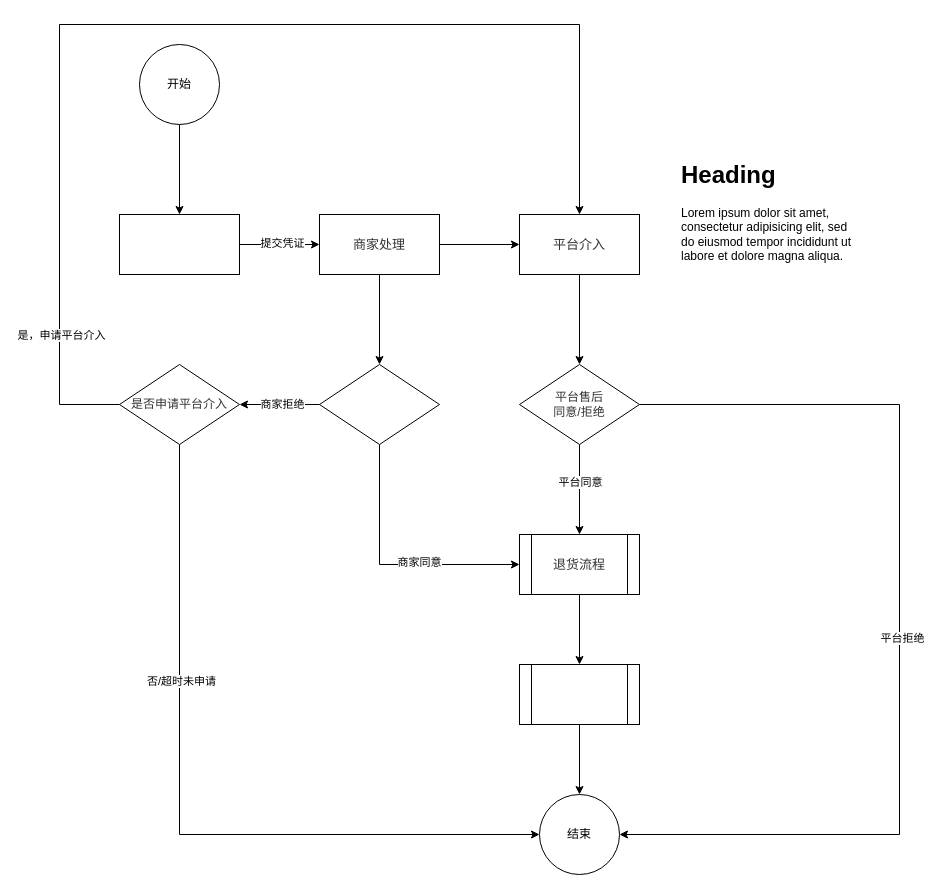
Some shapes in this 941 by 892 pixel diagram are drawn without their labels. The shapes that lost their labels are listed below. From the top down, each one's centre as x and y in pixels, then its label:
the point at 179,244: 客户申请售后
the point at 379,404: 商家售后 同意/拒绝
the point at 579,694: 退款流程
